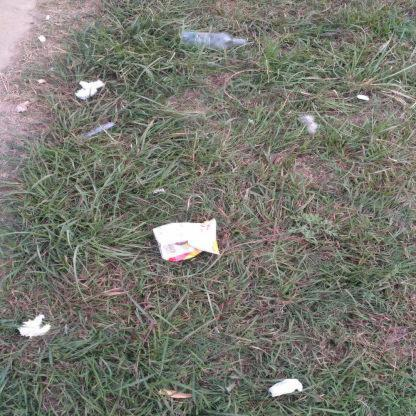Bottle cap: (183, 31, 246, 50)
Cigarette: (46, 15, 50, 20)
Plastic bag - wrapper: (152, 218, 220, 262), (269, 379, 303, 398), (82, 122, 115, 140), (226, 382, 237, 395)
Unlabeled litter: (17, 315, 50, 336), (74, 79, 105, 99), (358, 95, 369, 100)
